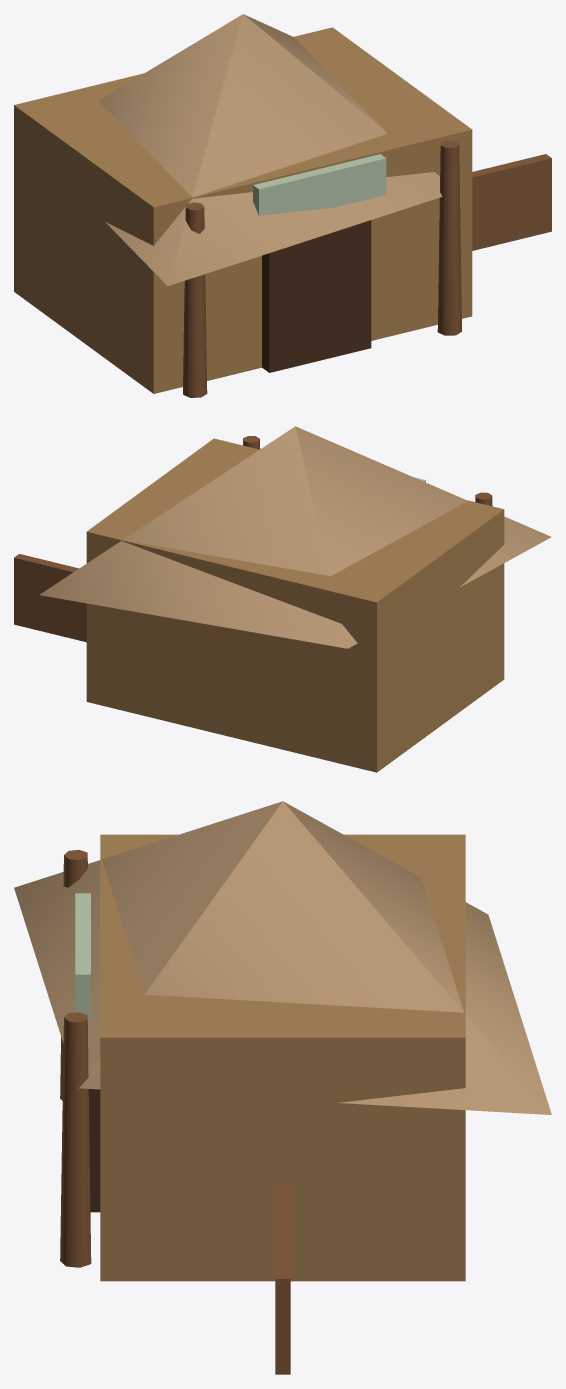
The model's file is chicken_coop.glb.
3 renders of one model, top to bottom at view 1: azimuth 30°, elevation 25°; view 2: azimuth 150°, elevation 25°; view 3: azimuth 270°, elevation 25°, orthographic. The views are drawn at different scales.
Parts seen in each view (by area): view 1: shed_body, shed_roof, opening, side_fence, name_board, post_2, post_-2; view 2: shed_body, shed_roof, side_fence; view 3: shed_body, shed_roof, post_2, side_fence, name_board, opening, post_-2.
Part boxes in pixels (<box>): shed_body: <box>14,27,472,393</box>; shed_roof: <box>99,14,442,285</box>; opening: <box>262,220,371,372</box>; side_fence: <box>472,154,551,250</box>; name_board: <box>253,154,386,215</box>; post_2: <box>437,140,461,335</box>; post_-2: <box>183,202,207,397</box>; shed_body: <box>86,438,504,772</box>; shed_roof: <box>39,426,551,648</box>; side_fence: <box>14,554,86,642</box>; shed_body: <box>100,834,465,1281</box>; shed_roof: <box>14,801,551,1114</box>; post_2: <box>60,1012,91,1267</box>; side_fence: <box>275,1185,290,1374</box>; name_board: <box>75,893,90,1020</box>; opening: <box>88,1089,100,1212</box>; post_-2: <box>60,850,87,1100</box>.
Size of what is drawn, in the model's own units: 7.6 by 4.35 by 5.6.
